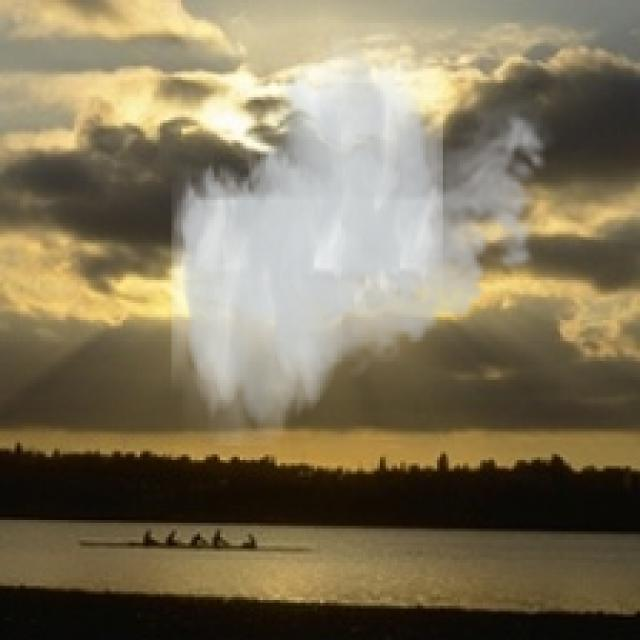Smoke: (172, 23, 557, 446)
